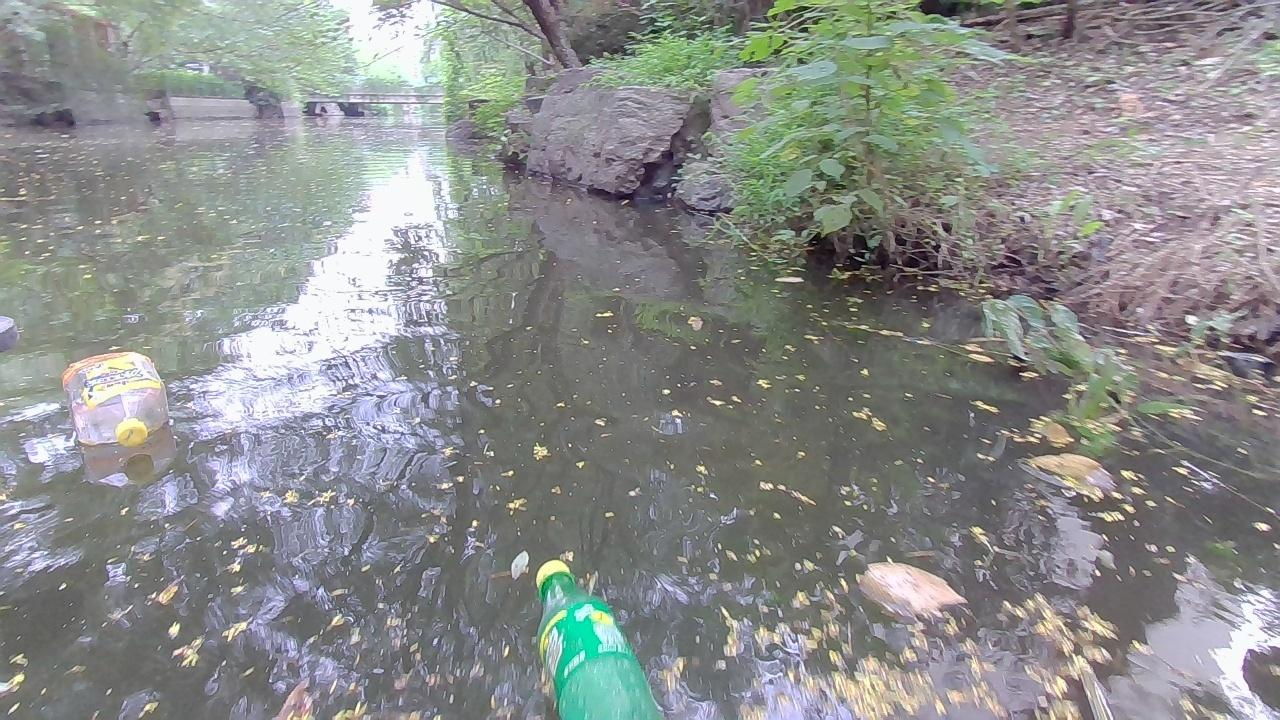bottle: (532, 557, 673, 719), (60, 350, 169, 450), (857, 559, 969, 624)
